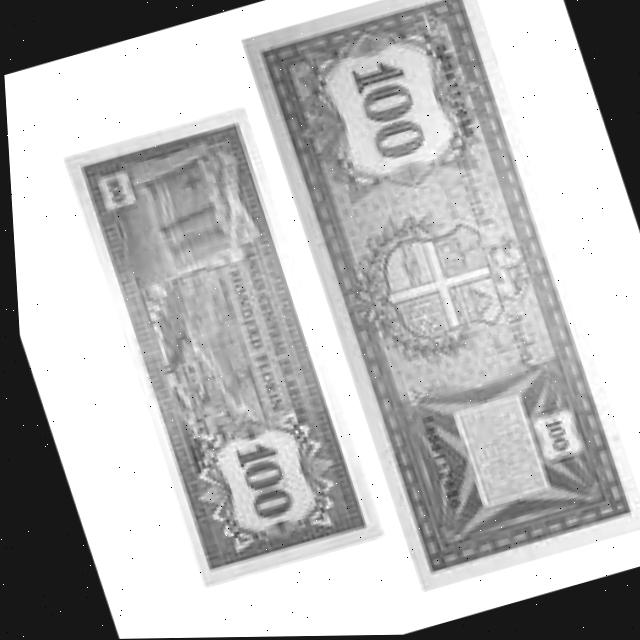banknote: (239, 0, 640, 594), (59, 101, 382, 587)
